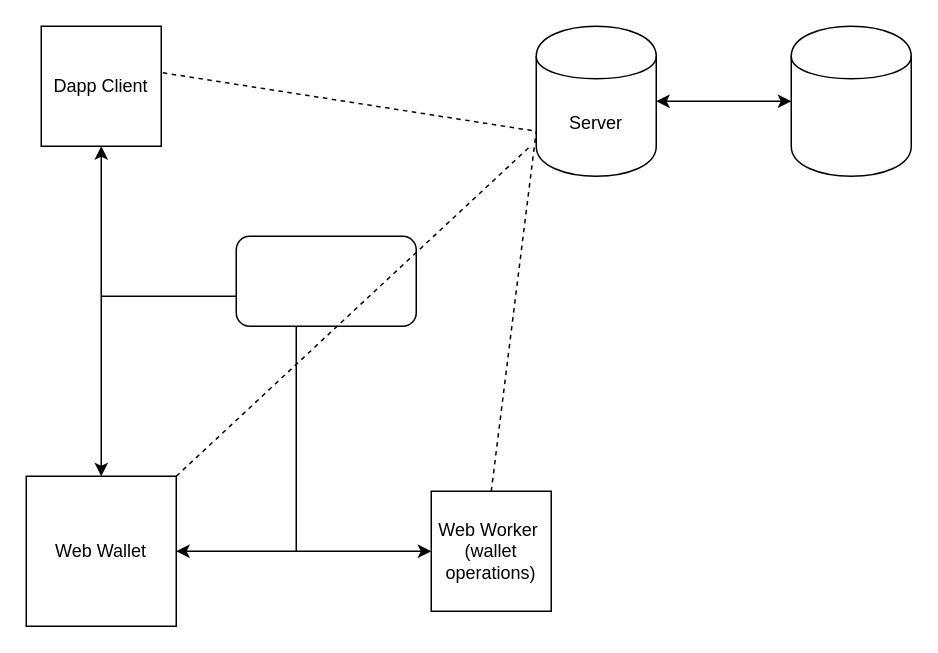
Image size: 938x653. Some labels were removed from this diagram. The centre of each missing label's shape, as x and y in pixels:
CKB Node: (x=850, y=100)
Keyper Bridge: (x=325, y=280)
